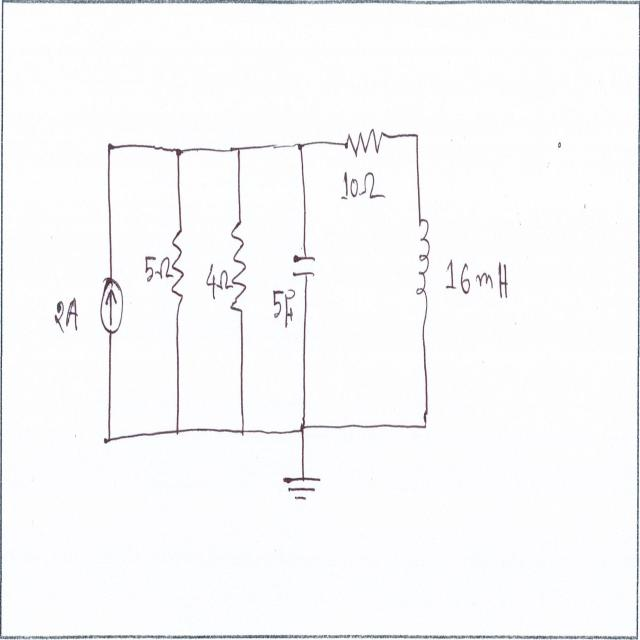capacitor: (290, 250, 320, 282)
current_source: (98, 278, 126, 336)
ground: (278, 472, 324, 503)
inductor: (416, 216, 429, 302)
resistor: (228, 213, 249, 315), (170, 228, 187, 304), (344, 126, 385, 155)
